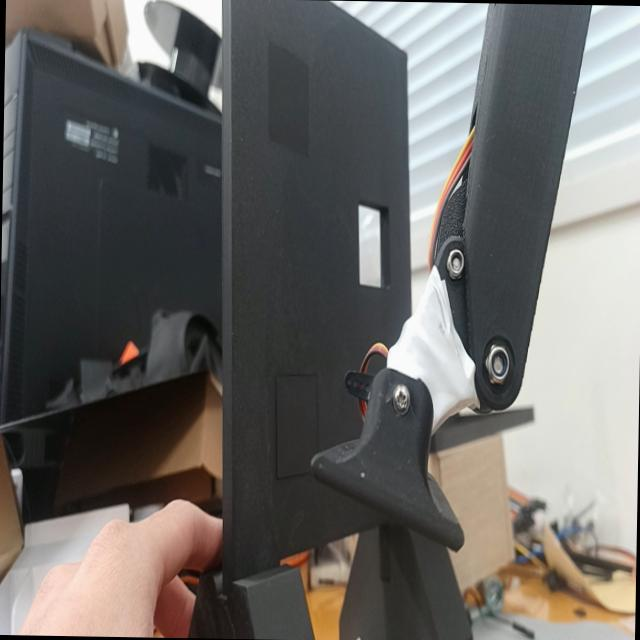Obstacle: (356, 198, 390, 288)
Wall: (222, 0, 411, 581)
